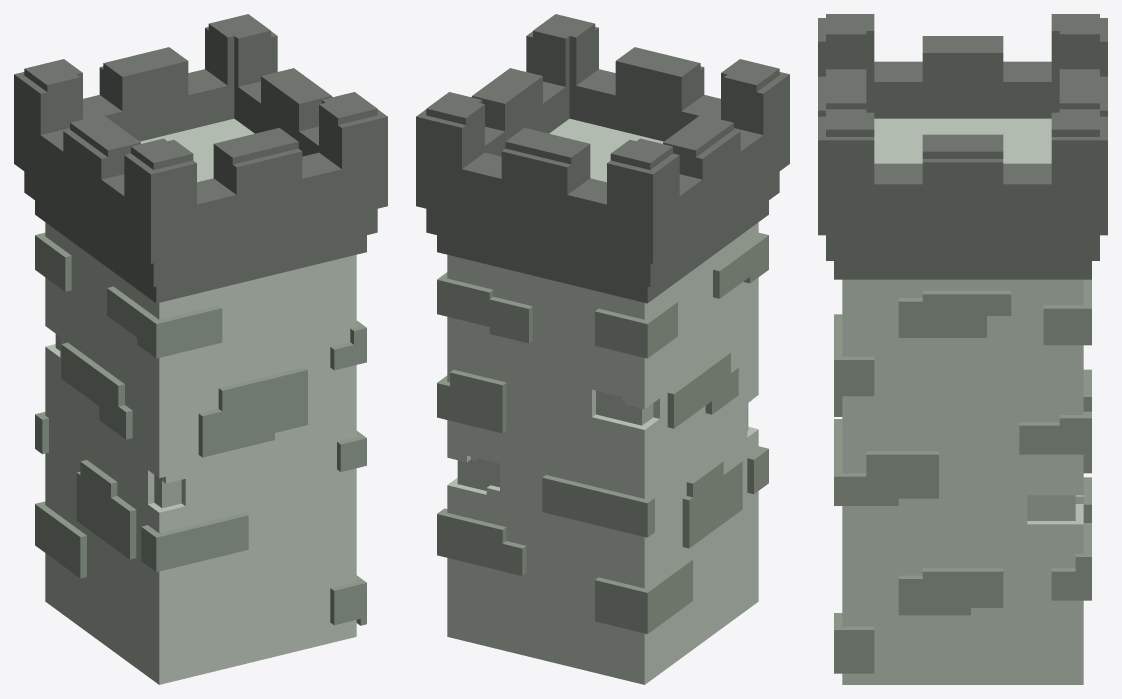
Rendered from WallTower#1.obj.
3 views of the same model, side by side, from view 1: azimuth 30°, elevation 25°; view 2: azimuth 150°, elevation 25°; view 3: azimuth 270°, elevation 25° (orthographic). The views are drawn at different scales.
Size of the model in its own units: 3.6 by 7.7 by 3.6.
1 material, 1 textured.
